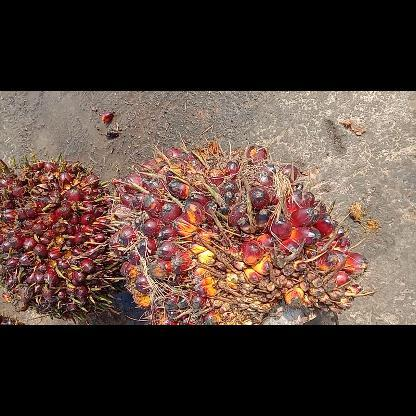Kurang masak: (0, 152, 120, 324)
TBS masak: (100, 136, 372, 324)
